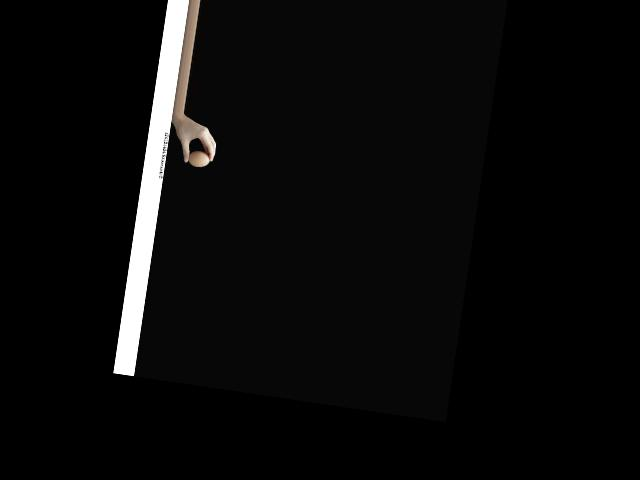egg: (187, 150, 211, 168)
